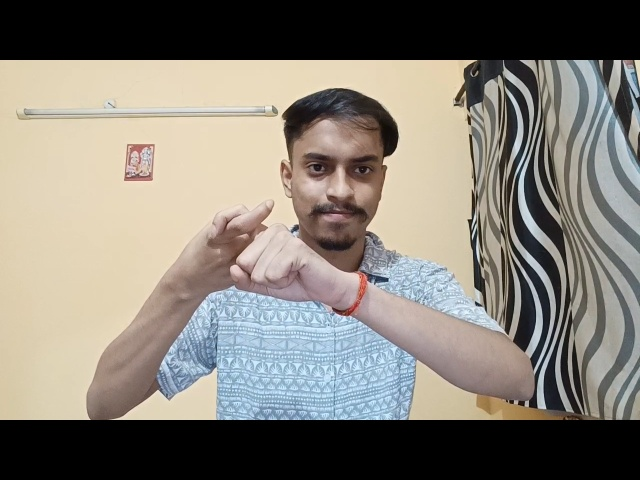Friend: (164, 182, 336, 317)
